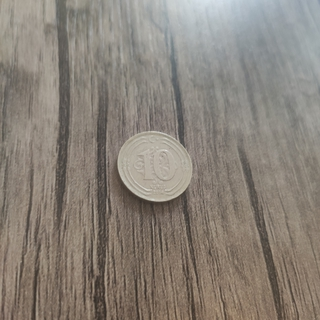10KURUS: (115, 129, 194, 204)
